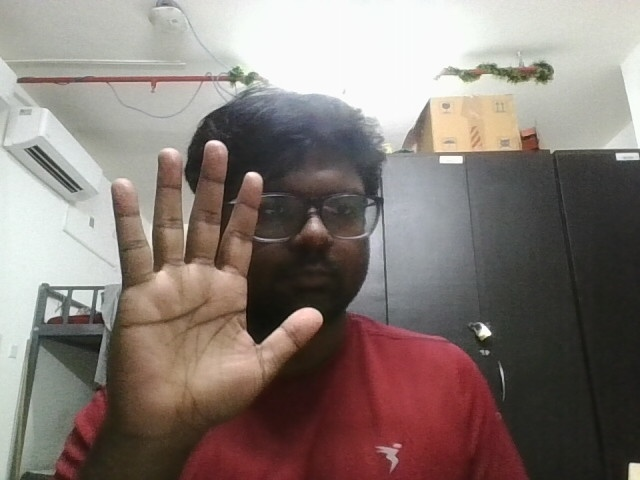Hello: (96, 136, 328, 448)
